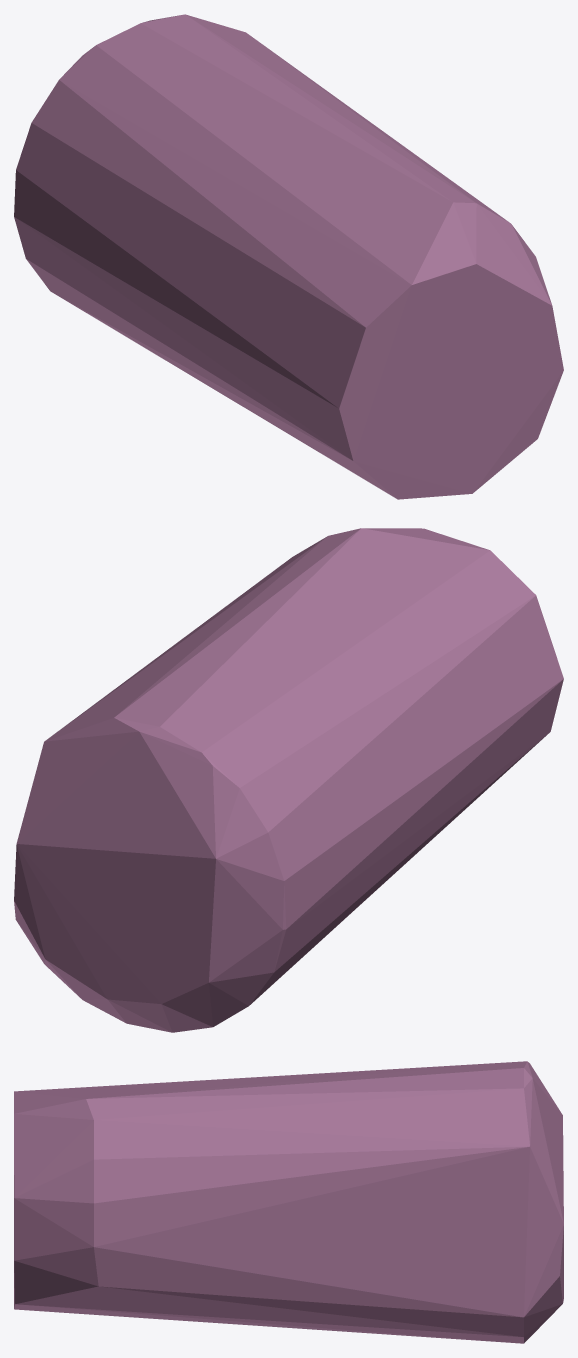
File: food_beverage_can_h01.glb
3 renders of one model, top to bottom at view 1: azimuth 30°, elevation 25°; view 2: azimuth 150°, elevation 25°; view 3: azimuth 270°, elevation 25°, orthographic. The views are drawn at different scales.
Visible parts, largest first — view 1: geometry_0; view 2: geometry_0; view 3: geometry_0.
Part boxes in pixels (x1=…): geometry_0: x1=14, y1=14, x2=563, y2=499; geometry_0: x1=14, y1=528, x2=563, y2=1032; geometry_0: x1=14, y1=1061, x2=563, y2=1343.
Size of the model in its own units: 0.245 by 0.2455 by 0.48.
